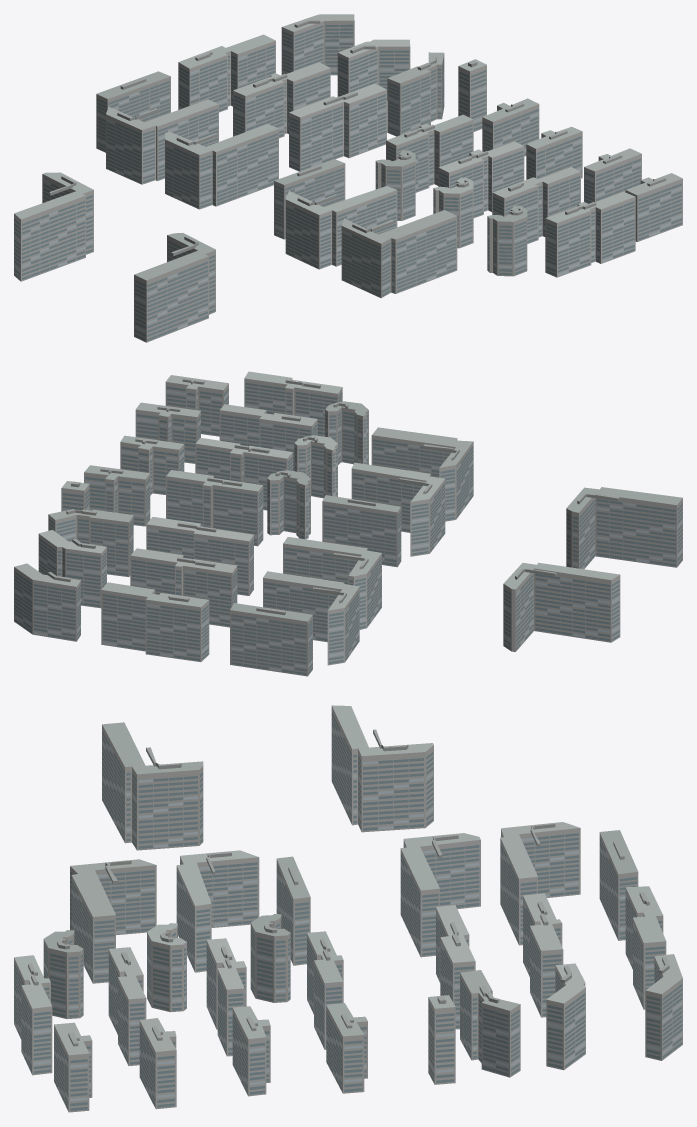
File: apt-a13921005.glb
3 views of the same model, one above another, from view 1: azimuth 30°, elevation 25°; view 2: azimuth 150°, elevation 25°; view 3: azimuth 270°, elevation 25° (orthographic). The views are drawn at different scales.
Visible parts, largest first — view 1: apt-a13921005; view 2: apt-a13921005; view 3: apt-a13921005.
Part boxes in pixels (bbox=[...]): apt-a13921005: bbox=[14, 14, 682, 342]; apt-a13921005: bbox=[14, 371, 682, 676]; apt-a13921005: bbox=[14, 705, 682, 1112].
Bounding box in the file's own units: 426 × 47.81 × 364.
